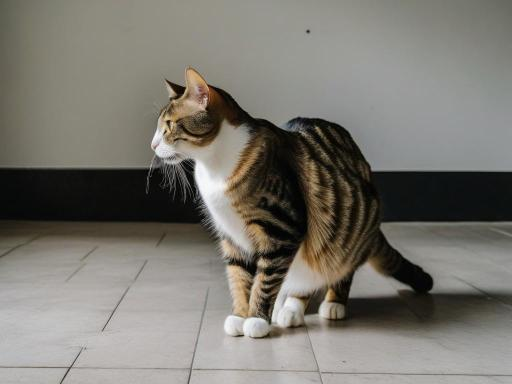cat_standing: (151, 68, 432, 337)
